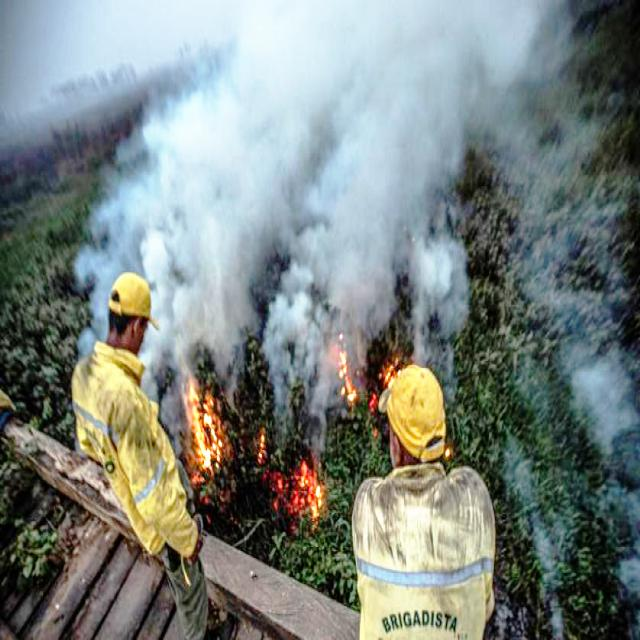api: (178, 385, 232, 487), (291, 463, 331, 529), (335, 340, 356, 405)
asap: (180, 1, 464, 356), (68, 97, 178, 279), (471, 1, 550, 133), (575, 330, 636, 470)
